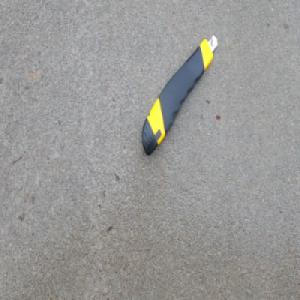Cutter: (140, 32, 218, 156)
